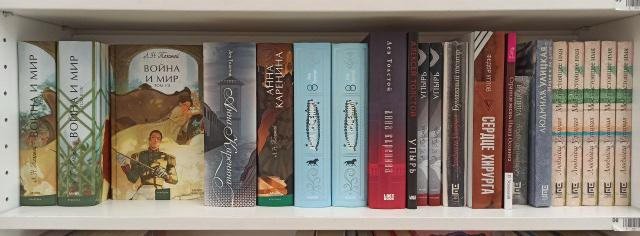book-s-spine: (203, 43, 256, 206), (370, 32, 407, 208), (58, 41, 96, 206), (18, 41, 56, 205), (294, 43, 331, 206), (258, 43, 294, 206), (332, 44, 368, 205), (472, 32, 504, 208), (443, 42, 468, 206), (615, 42, 633, 206), (566, 43, 584, 206), (536, 40, 553, 207), (583, 41, 600, 205), (599, 42, 616, 205), (551, 42, 567, 206), (513, 76, 530, 205), (429, 43, 442, 206), (504, 33, 516, 209), (417, 44, 429, 205), (408, 32, 418, 208)
